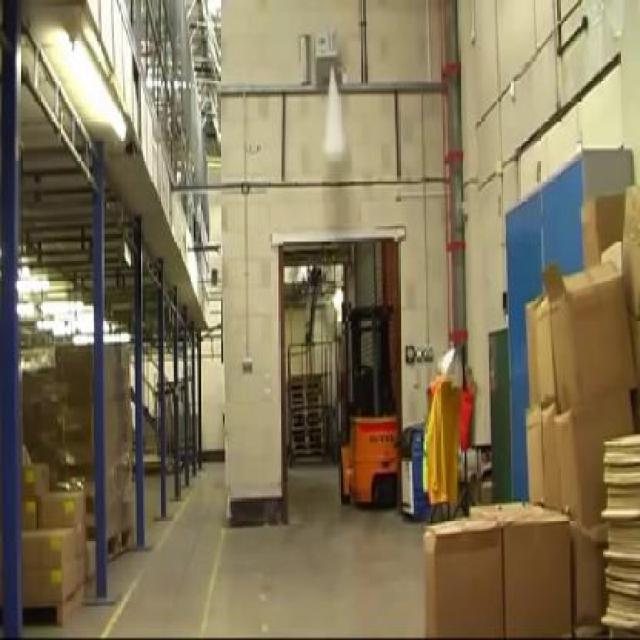fire: (316, 84, 347, 164)
